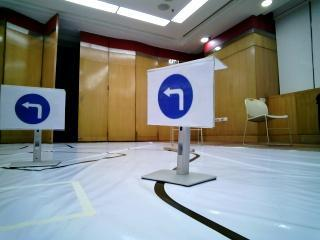left: (153, 68, 203, 123), (4, 89, 67, 129)
